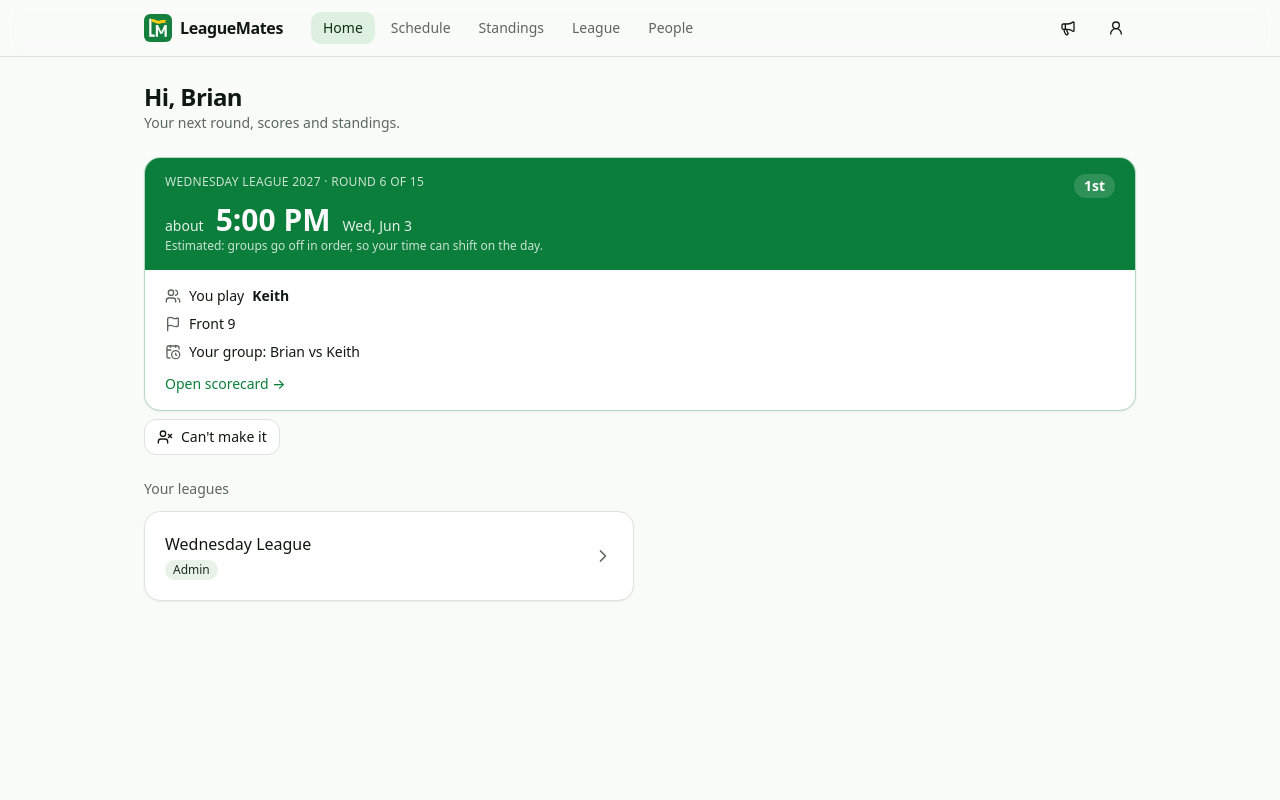
it: can't make it (Home) › marks yourself out with a sub, then back in
Click the button "Can't make it": point(212, 437) [144, 419, 280, 455]
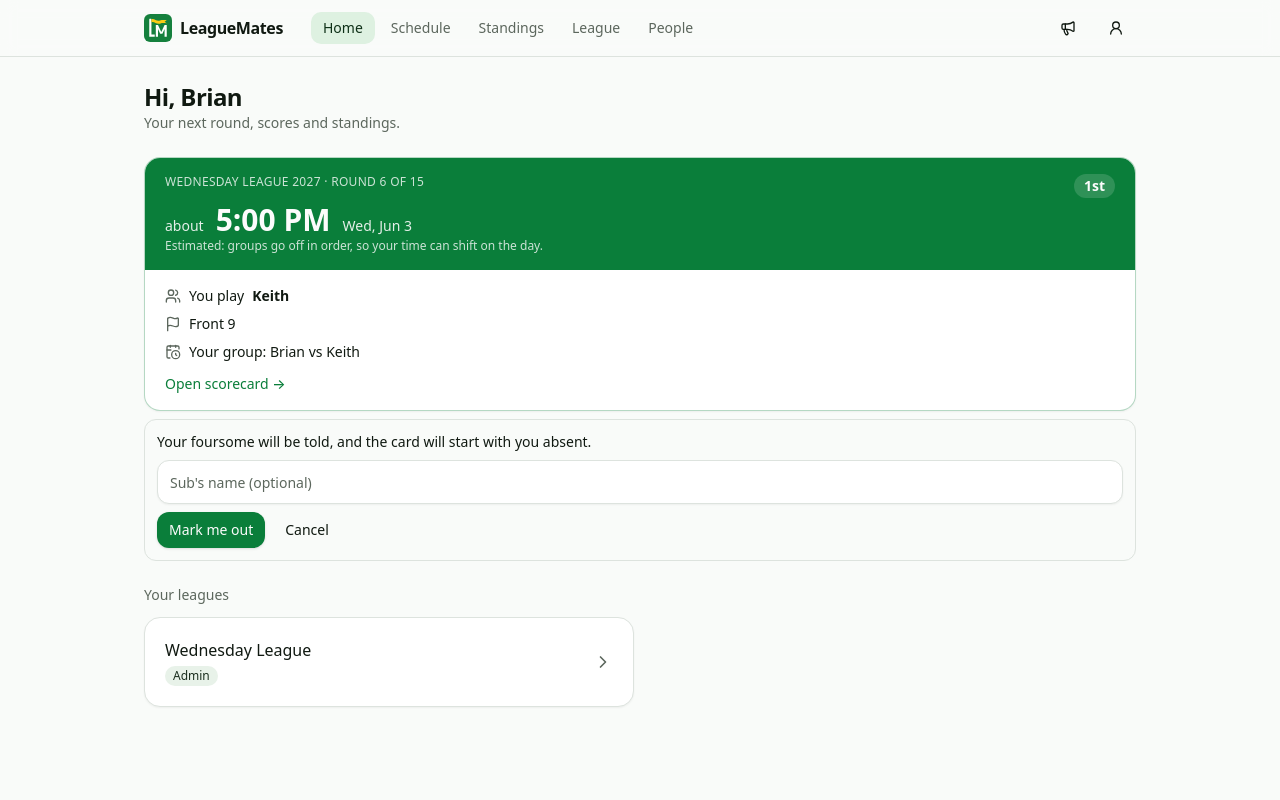
In the field labelled "Sub's name (optional)": point(640, 482) [157, 460, 1123, 504], type "Uncle Bob"
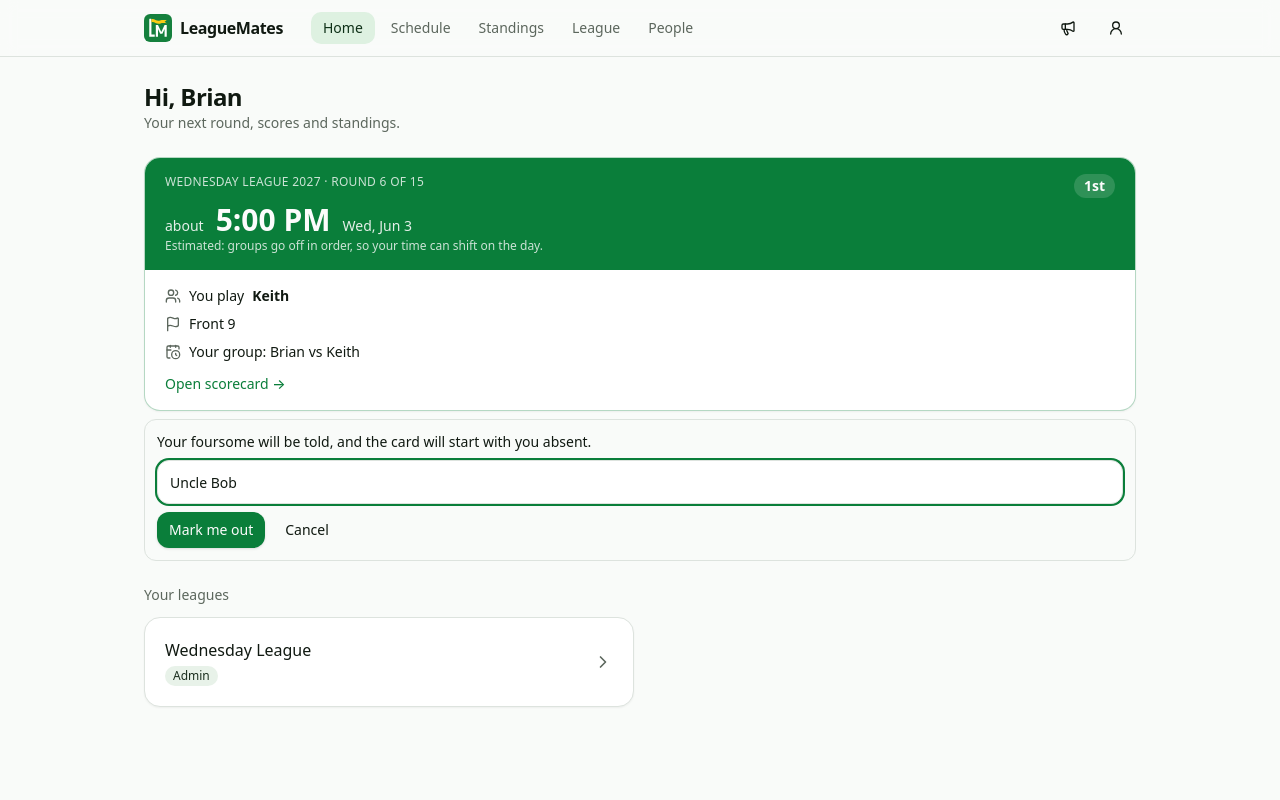
Click the button "Mark me out": point(211, 530) [157, 512, 265, 548]
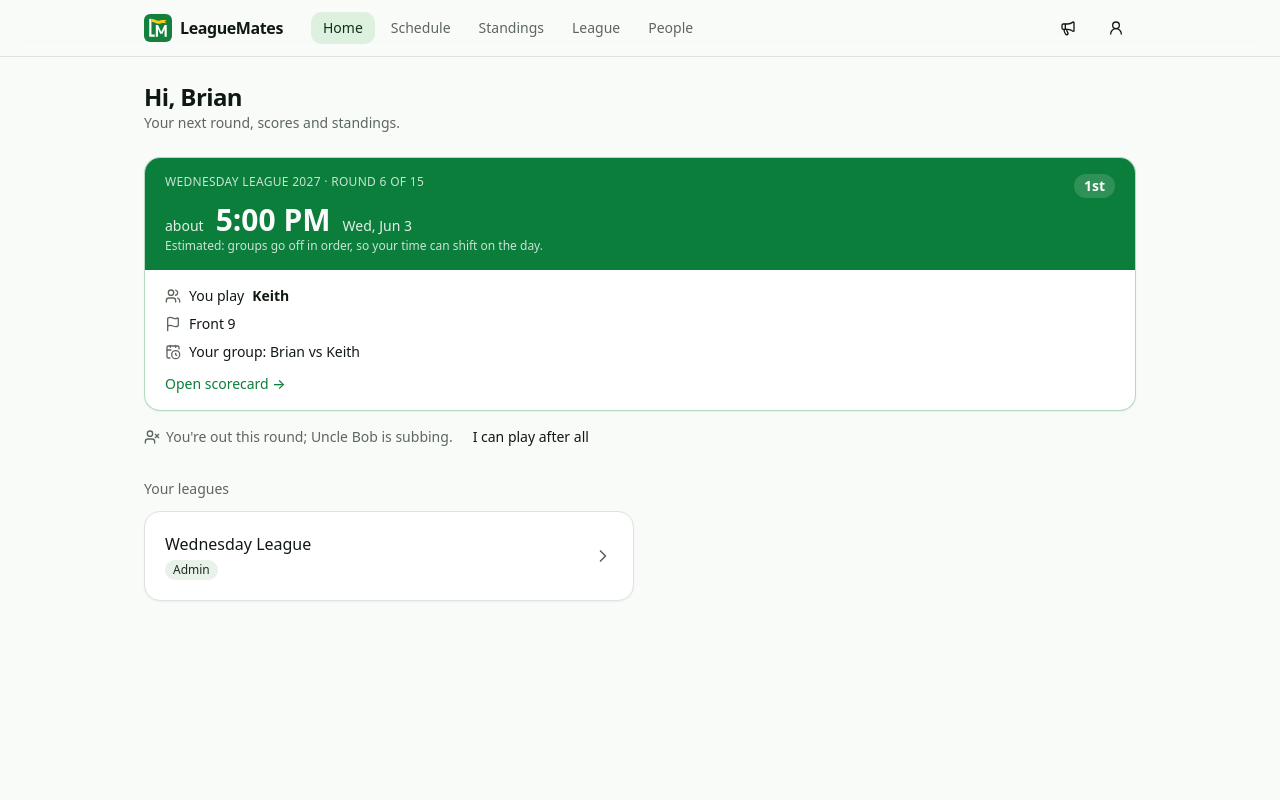
Check: the text "You're out this round; Uncle Bob is subbing." is shown, box [144, 427, 453, 447]
Click the button "I can play after all": point(531, 437) [461, 419, 601, 455]
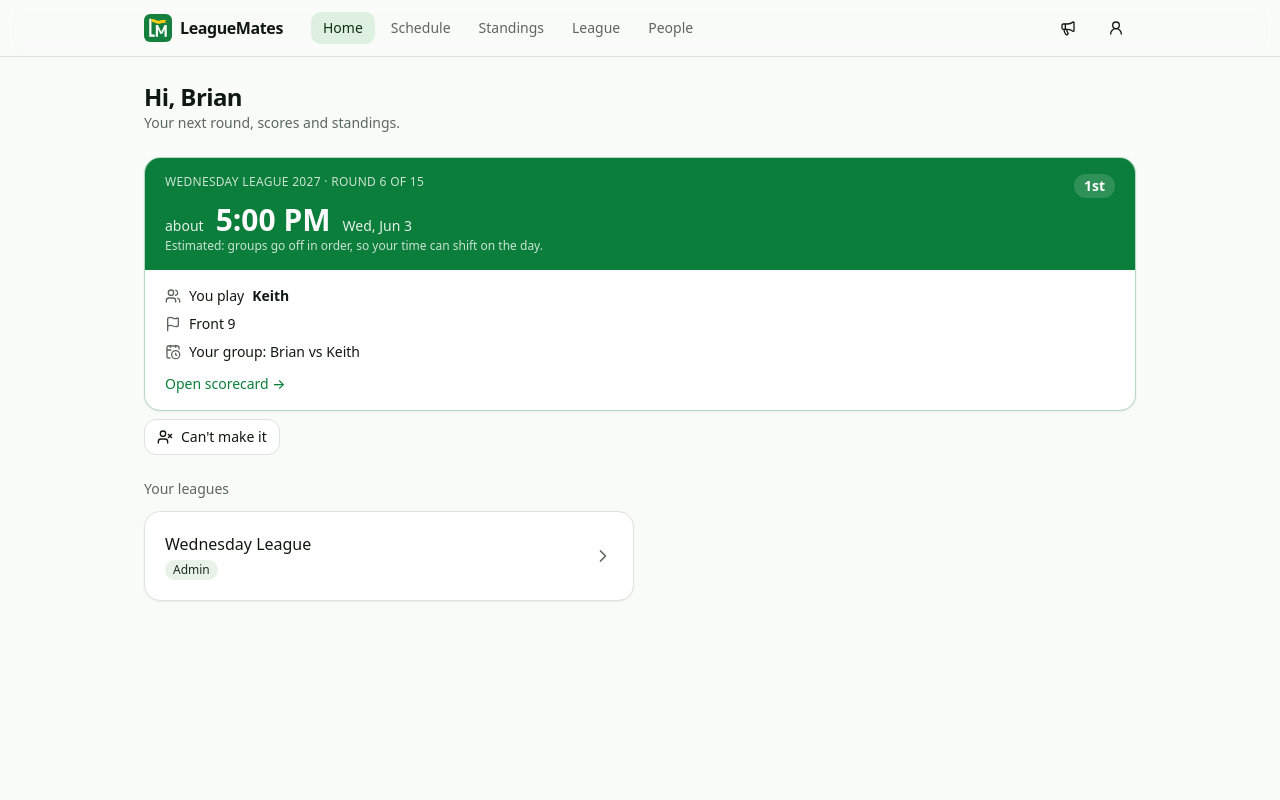
Check: the button "Can't make it" is shown, box [144, 419, 280, 455]
